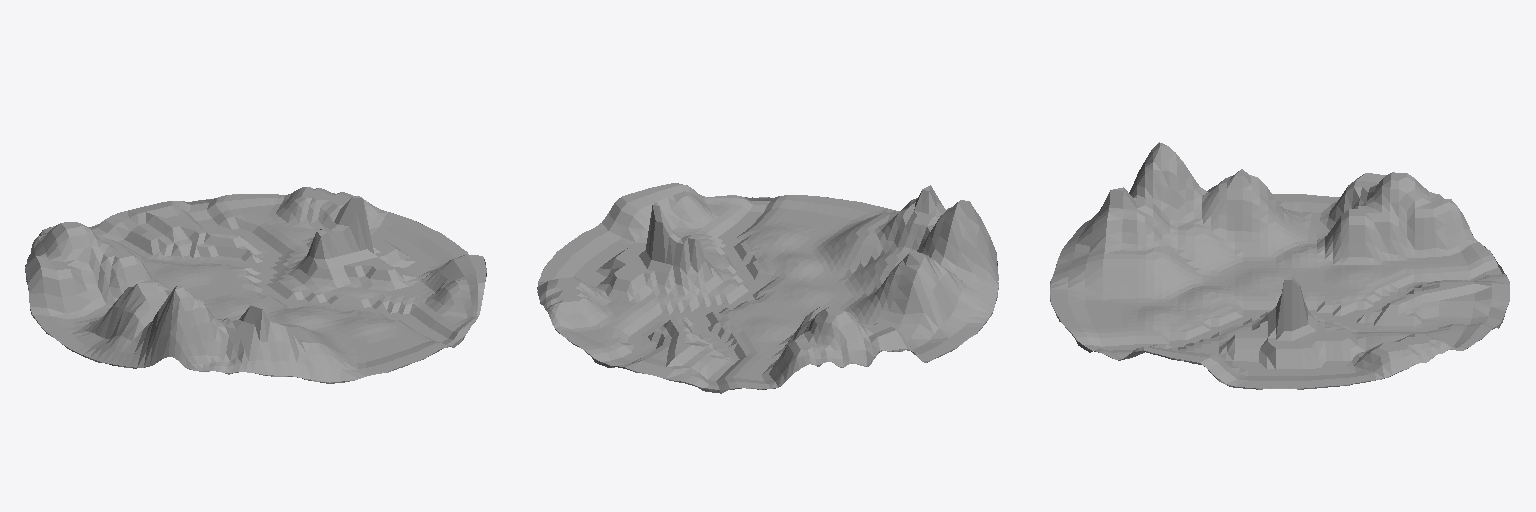
Rendered from landscape3.obj.
The picture shows the model from 3 angles: view 1: azimuth 30°, elevation 25°; view 2: azimuth 150°, elevation 25°; view 3: azimuth 270°, elevation 25°; orthographic projection.
Parts seen in each view (by area): view 1: Plane_Plane.003; view 2: Plane_Plane.003; view 3: Plane_Plane.003.
Part boxes in pixels (left/top/right/bottom): Plane_Plane.003: left=25, top=187, right=486, bottom=383; Plane_Plane.003: left=537, top=183, right=998, bottom=393; Plane_Plane.003: left=1050, top=142, right=1509, bottom=389.
Size of the model in its own units: 145 by 31.22 by 145.